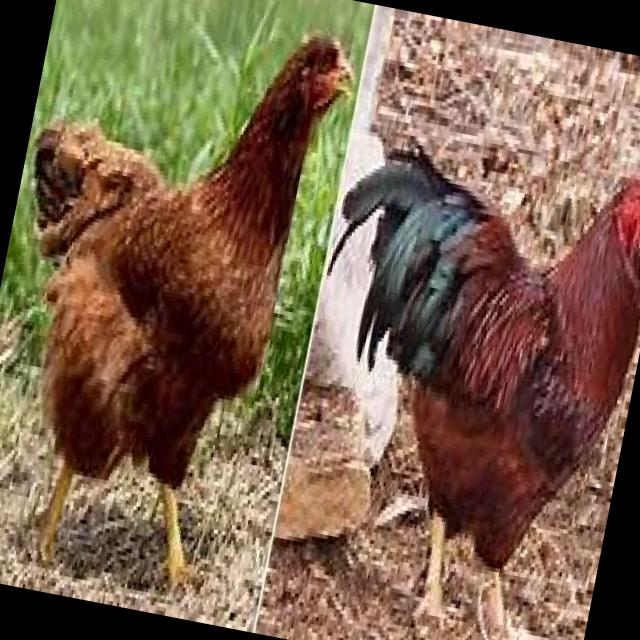animal: (0, 0, 362, 608), (255, 113, 640, 640)
